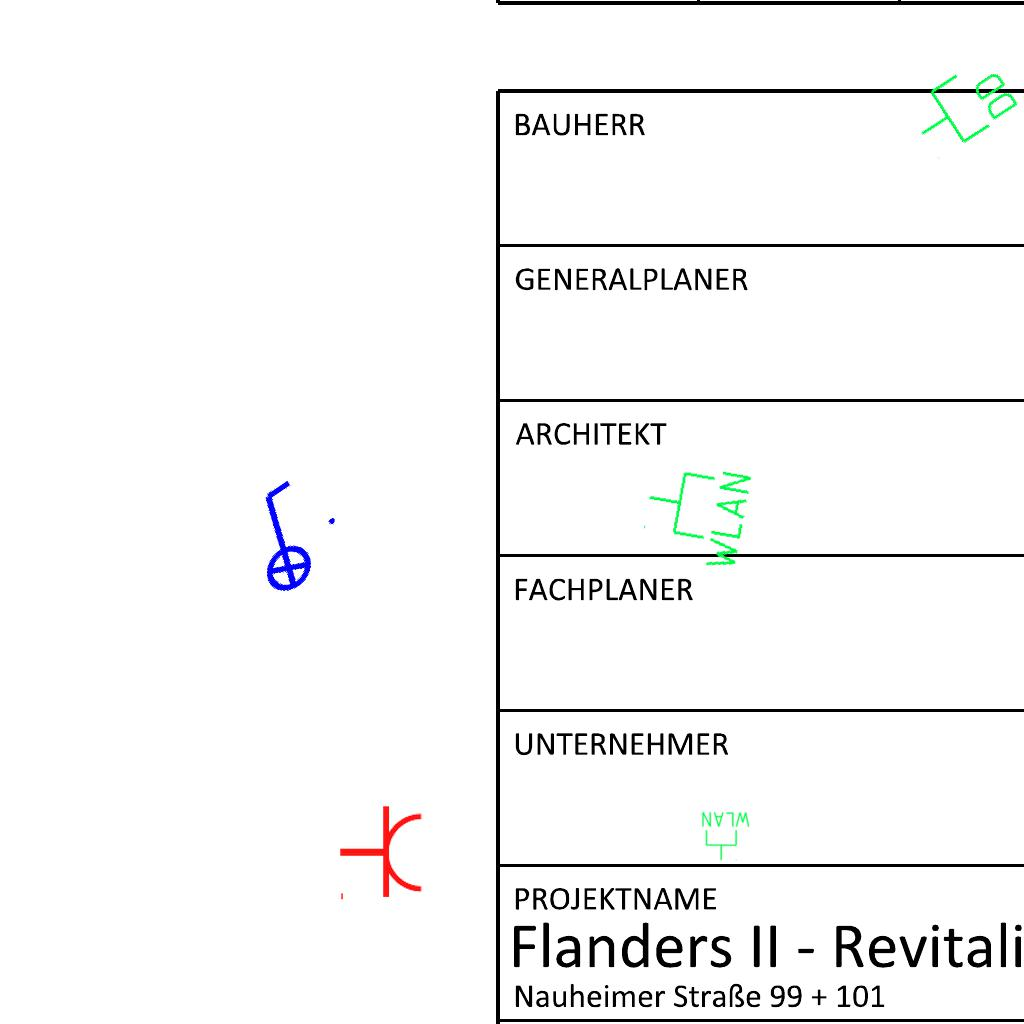Ausschalter_beleuchtet: (207, 464, 355, 612)
Datenanschluss_zweifach: (901, 50, 1024, 165)
Schukosteckdose_einfach: (338, 804, 425, 904)
WLAN: (635, 454, 757, 577), (700, 810, 752, 862)
